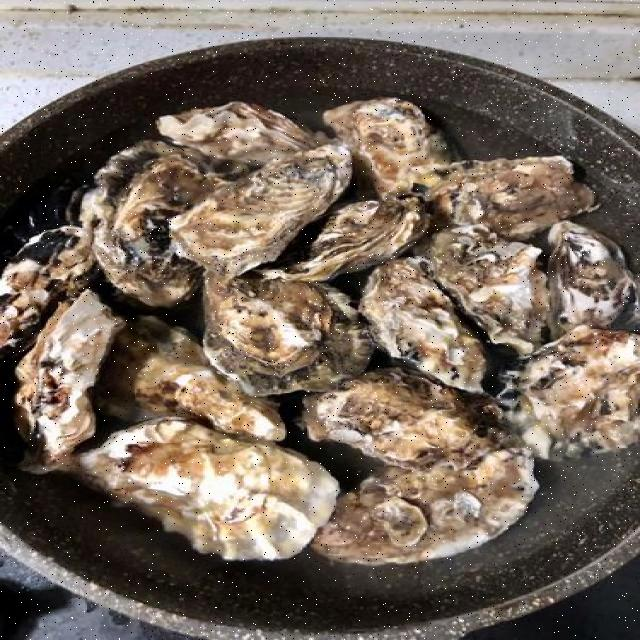Oyster-Closed: (56, 420, 342, 564), (311, 451, 540, 566), (169, 144, 354, 279), (93, 320, 286, 447), (78, 144, 220, 314), (341, 261, 492, 397), (305, 373, 514, 469), (13, 292, 124, 467), (202, 274, 368, 386), (417, 231, 562, 359), (503, 329, 640, 457), (292, 196, 451, 284), (416, 157, 600, 231), (322, 99, 462, 196), (0, 224, 94, 366), (545, 222, 640, 339), (154, 102, 335, 162)
